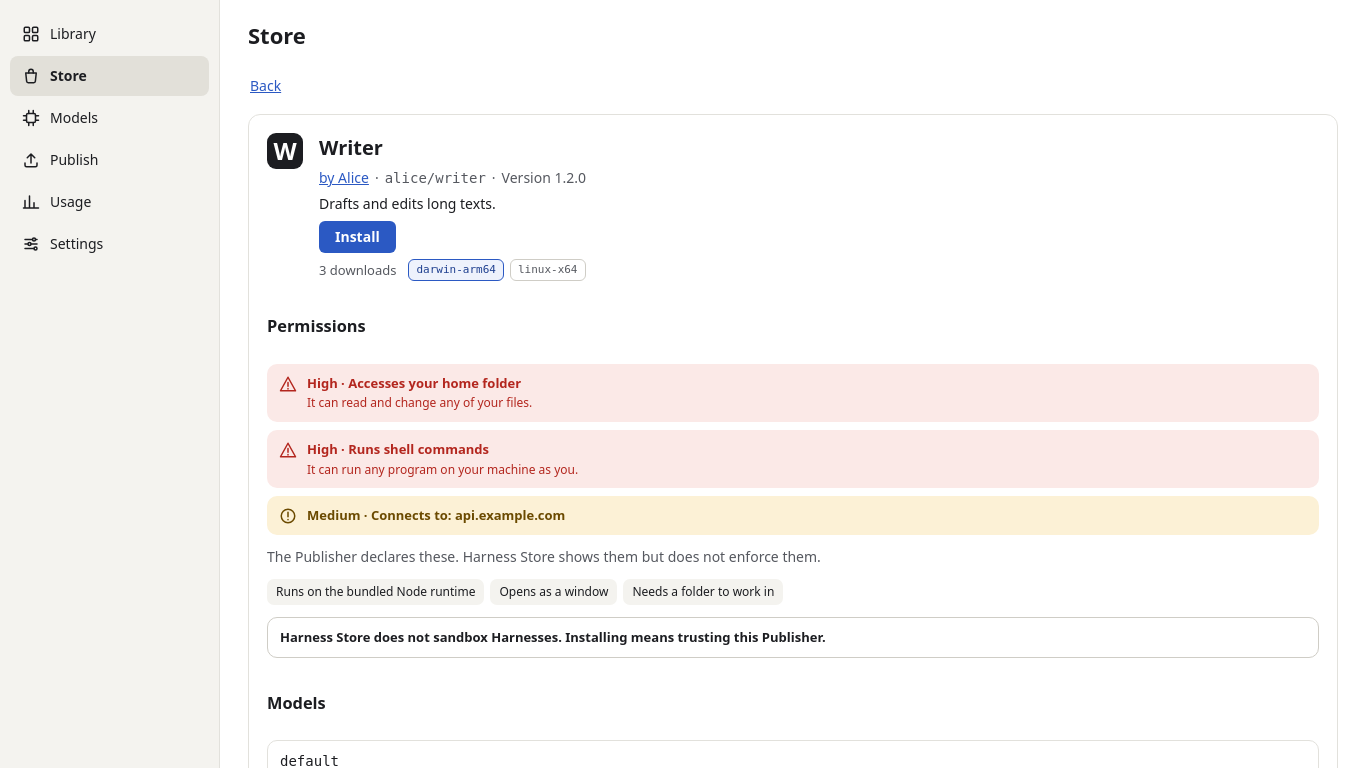
Install on a Store detail page › Cancel during the download stops it, with a toast, and offers Install again
Click the button "Install".
click(357, 237)  # box left=319, top=221, right=396, bottom=253
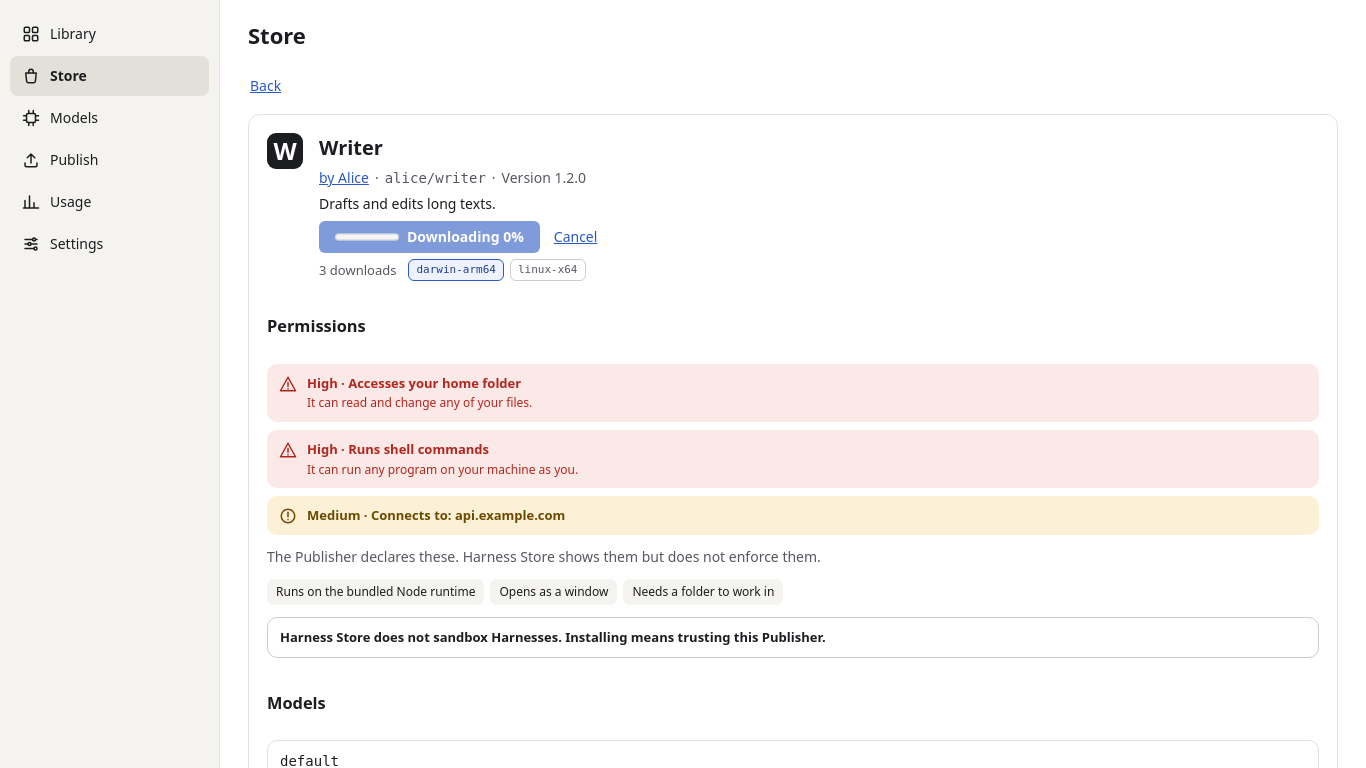
Click the button "Cancel".
click(576, 237)  # box left=552, top=221, right=599, bottom=253
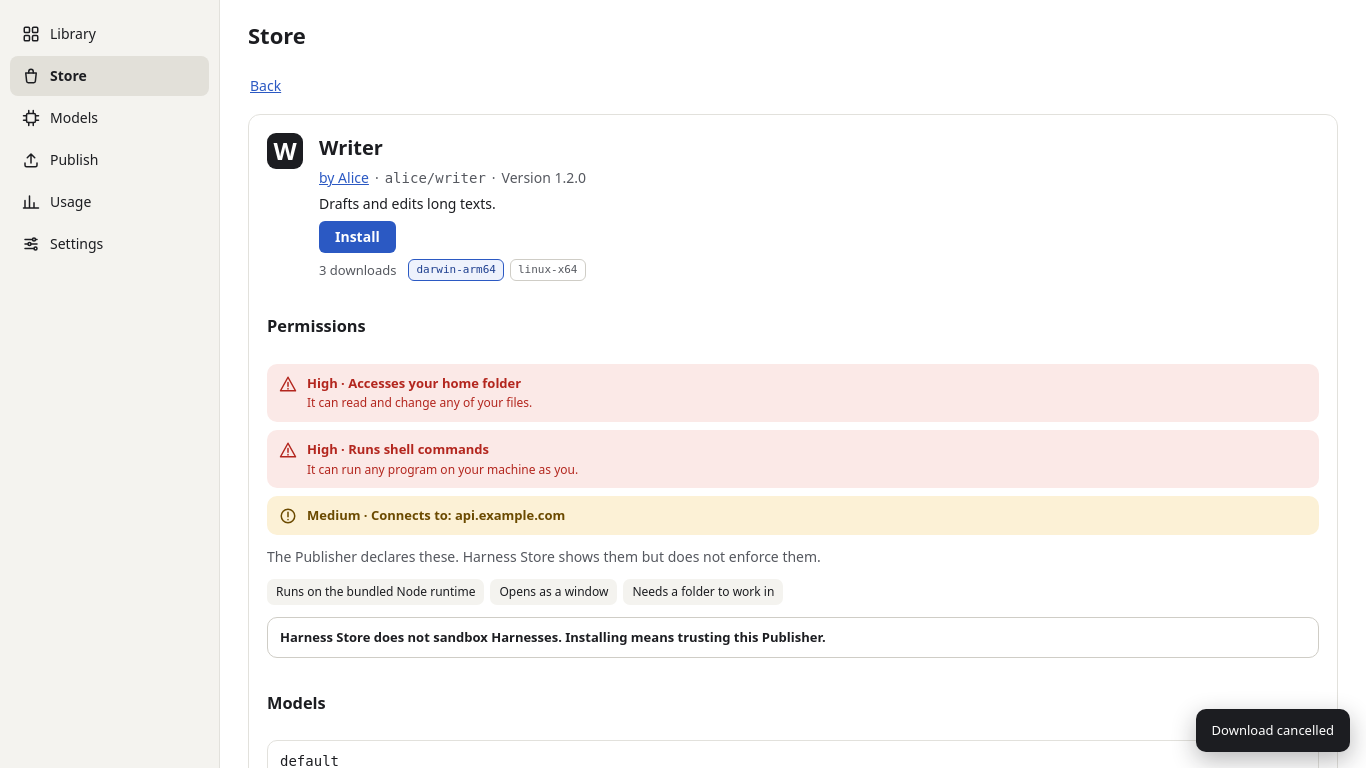
Check: the text "Download cancelled" is shown, box left=1196, top=709, right=1350, bottom=752
